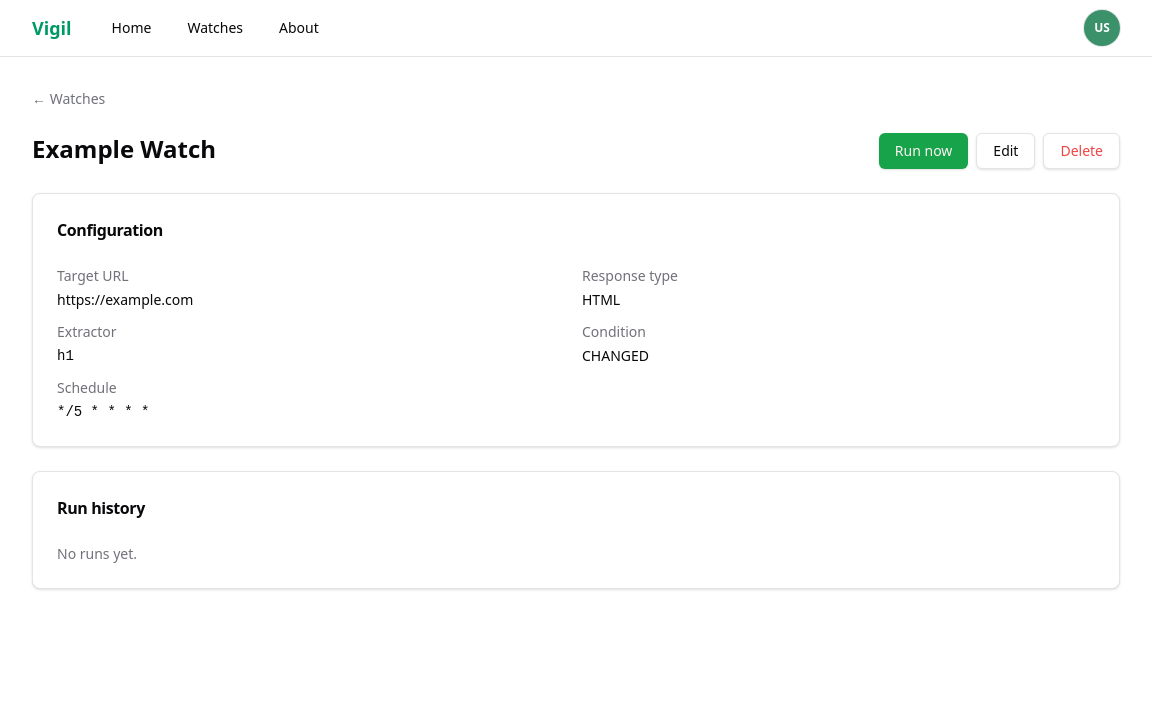
Test: Delete Watch (detail page) › shows confirmation buttons after clicking Delete
Click the button "Delete" at coordinates (1082, 151), box [1043,133,1120,169]
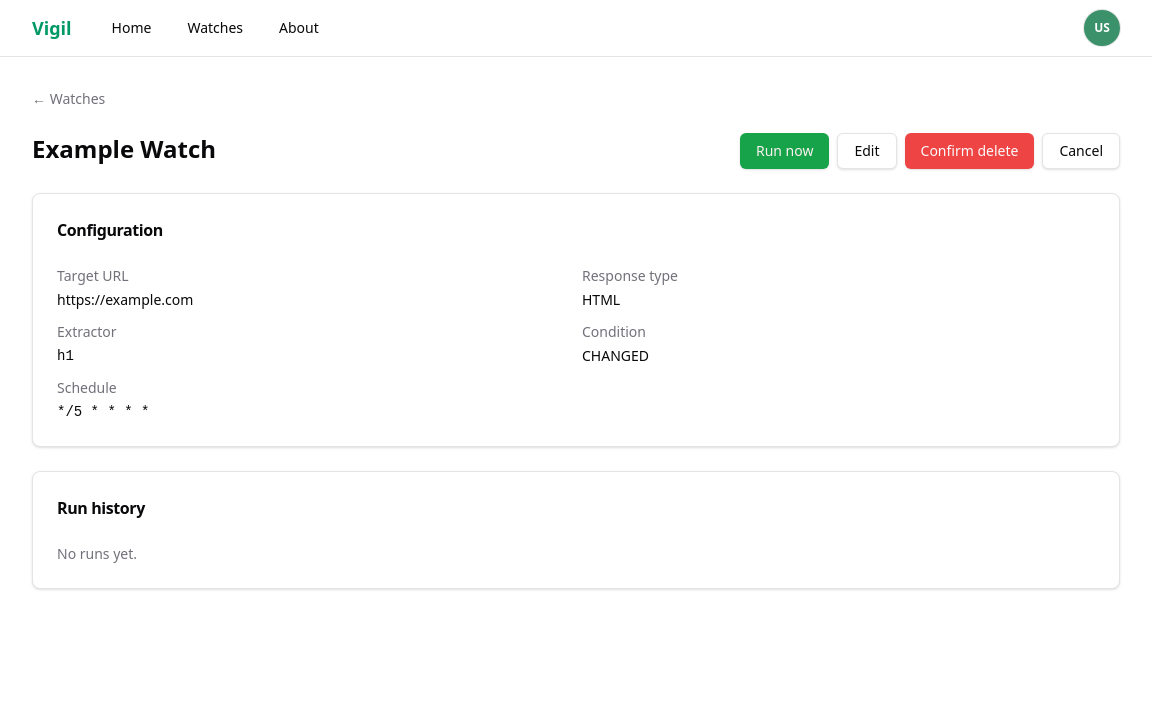
Check: the button "Confirm delete" is shown, box [904,133,1034,169]
Check: the button "Cancel" is shown, box [1042,133,1120,169]
